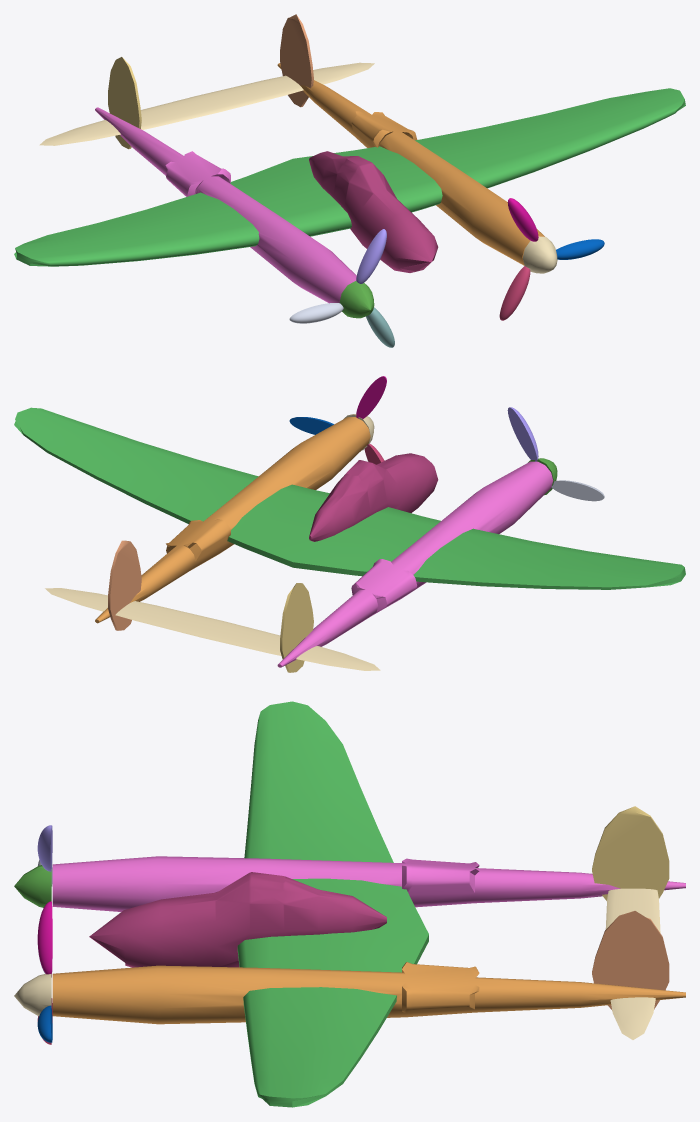
3 views of the same model, one above another, from view 1: azimuth 30°, elevation 25°; view 2: azimuth 150°, elevation 25°; view 3: azimuth 270°, elevation 25° (orthographic). The views are drawn at different scales.
Visible parts, largest first — view 1: Box001_Material #23_0.003, Box001_Material #23_0.012, Box001_Material #23_0.006, Box001_Material #23_0.002, Box001_Material #23_0, Box001_Material #23_0.010, Box001_Material #23_0.016, Box001_Material #23_0.005, split_parent_9, Box001_Material #23_0.013, Box001_Material #23_0.009, Box001_Material #23_0.014 (+3 smaller); view 2: Box001_Material #23_0.003, Box001_Material #23_0.012, Box001_Material #23_0.006, Box001_Material #23_0.002, Box001_Material #23_0, Box001_Material #23_0.010, Box001_Material #23_0.016, Box001_Material #23_0.013, Box001_Material #23_0.014, Box001_Material #23_0.007, Box001_Material #23_0.008; view 3: Box001_Material #23_0.003, Box001_Material #23_0.006, Box001_Material #23_0.012, Box001_Material #23_0.002, Box001_Material #23_0.016, Box001_Material #23_0.010, Box001_Material #23_0, split_parent_9, Box001_Material #23_0.005, Box001_Material #23_0.007.
Part boxes in pixels (<box>): Box001_Material #23_0.003: <box>14,88,685,266</box>; Box001_Material #23_0.012: <box>95,107,356,303</box>; Box001_Material #23_0.006: <box>277,63,544,265</box>; Box001_Material #23_0.002: <box>309,151,438,272</box>; Box001_Material #23_0: <box>39,62,374,145</box>; Box001_Material #23_0.010: <box>280,14,313,107</box>; Box001_Material #23_0.016: <box>108,57,141,149</box>; Box001_Material #23_0.005: <box>522,236,557,273</box>; split_parent_9: <box>339,281,374,318</box>; Box001_Material #23_0.013: <box>356,229,386,283</box>; Box001_Material #23_0.009: <box>499,266,530,320</box>; Box001_Material #23_0.014: <box>289,303,343,323</box>; Box001_Material #23_0.003: <box>14,407,685,589</box>; Box001_Material #23_0.012: <box>277,461,553,667</box>; Box001_Material #23_0.006: <box>95,417,370,623</box>; Box001_Material #23_0.002: <box>309,453,438,541</box>; Box001_Material #23_0: <box>45,588,380,670</box>; Box001_Material #23_0.010: <box>108,540,141,630</box>; Box001_Material #23_0.016: <box>280,583,313,672</box>; Box001_Material #23_0.013: <box>507,407,538,461</box>; Box001_Material #23_0.014: <box>551,480,604,501</box>; Box001_Material #23_0.007: <box>356,376,386,418</box>; Box001_Material #23_0.008: <box>289,417,333,434</box>; Box001_Material #23_0.003: <box>237,701,428,1107</box>; Box001_Material #23_0.006: <box>52,962,685,1024</box>; Box001_Material #23_0.012: <box>52,856,685,911</box>; Box001_Material #23_0.002: <box>89,872,386,967</box>; Box001_Material #23_0.016: <box>592,806,669,900</box>; Box001_Material #23_0.010: <box>592,911,669,1010</box>; Box001_Material #23_0: <box>605,888,660,1039</box>; split_parent_9: <box>14,865,51,907</box>; Box001_Material #23_0.005: <box>14,973,51,1016</box>; Box001_Material #23_0.007: <box>37,901,52,976</box>.
Size of the model in its own units: 1 by 0.179 by 0.7131.
